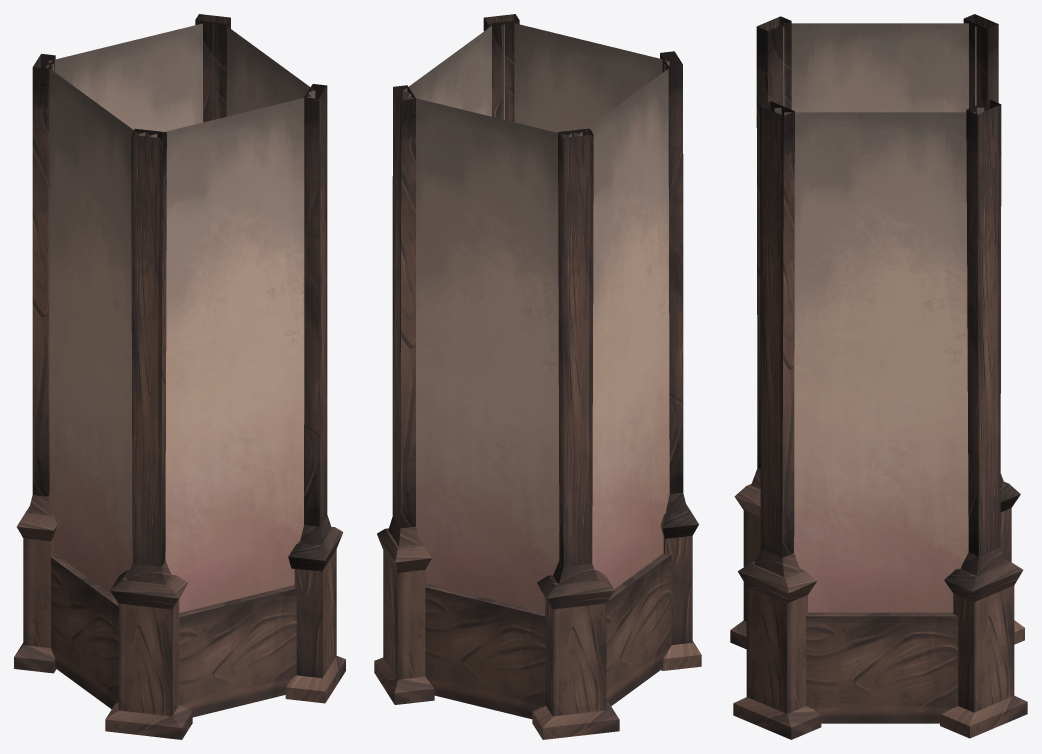
Rendered from Wall_Bot_Half_Pillar_LOD1.fbx.
The picture shows the model from 3 angles, left to right: view 1: azimuth 30°, elevation 25°; view 2: azimuth 150°, elevation 25°; view 3: azimuth 270°, elevation 25°; orthographic projection. The views are drawn at different scales.
Visible parts, largest first — view 1: Bot_HalfPillar_LOD1; view 2: Bot_HalfPillar_LOD1; view 3: Bot_HalfPillar_LOD1.
Part boxes in pixels (x1=…): Bot_HalfPillar_LOD1: x1=14, y1=14, x2=345, y2=739; Bot_HalfPillar_LOD1: x1=374, y1=14, x2=701, y2=739; Bot_HalfPillar_LOD1: x1=730, y1=14, x2=1027, y2=739.
Size of the model in its own units: 0.0184 by 0.0424 by 0.0186.
